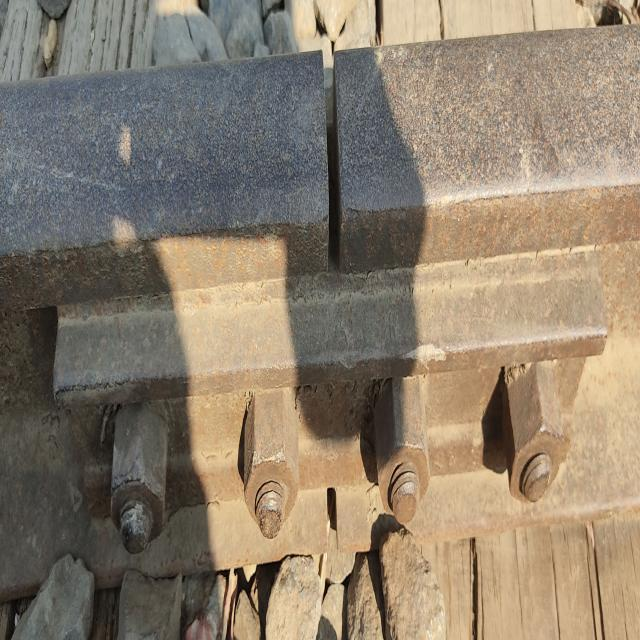Good Joint: (53, 241, 640, 552)
